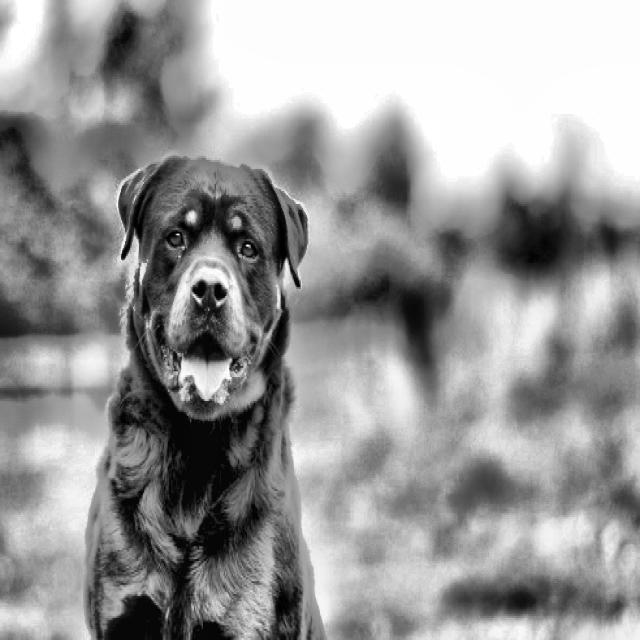rottweiler: (96, 114, 324, 504)
